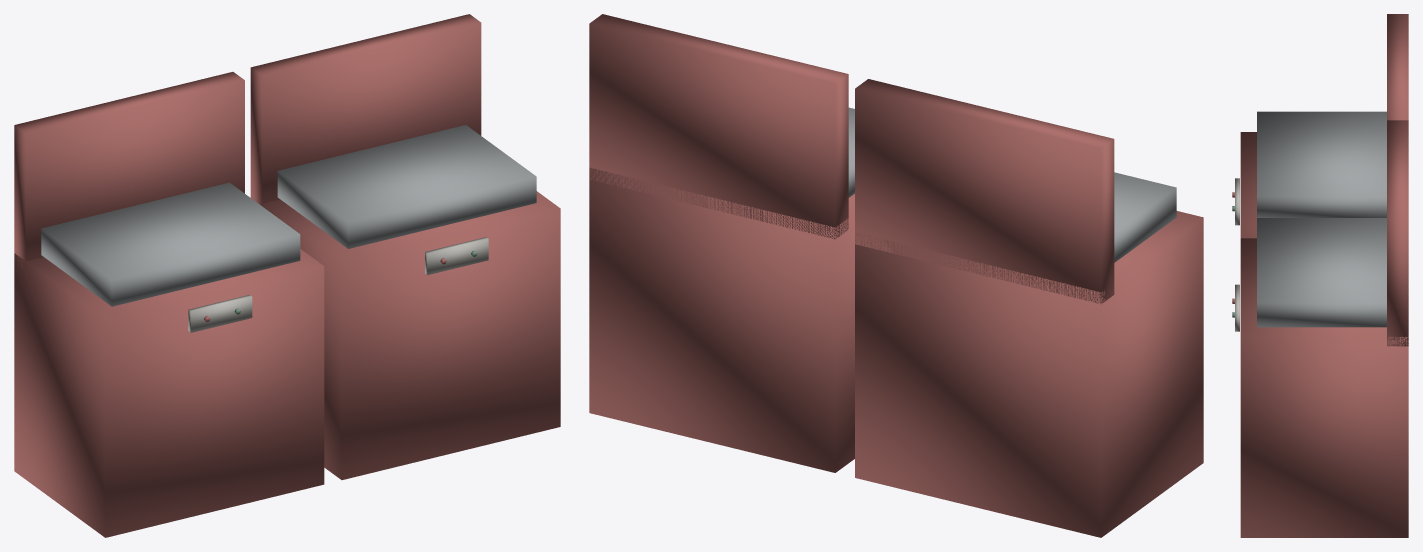
Rendered from parts_washer__cluster.glb.
3 views of the same model, side by side, from view 1: azimuth 30°, elevation 25°; view 2: azimuth 150°, elevation 25°; view 3: azimuth 270°, elevation 25° (orthographic). The views are drawn at different scales.
Visible parts, largest first — view 1: world; view 2: world; view 3: world.
Part boxes in pixels (box(x1,y1,x2,y2)): world: box(14, 14, 560, 537); world: box(589, 14, 1203, 537); world: box(1232, 14, 1408, 537).
Bounding box in the file's own units: 1.79 × 1.3 × 0.651.
